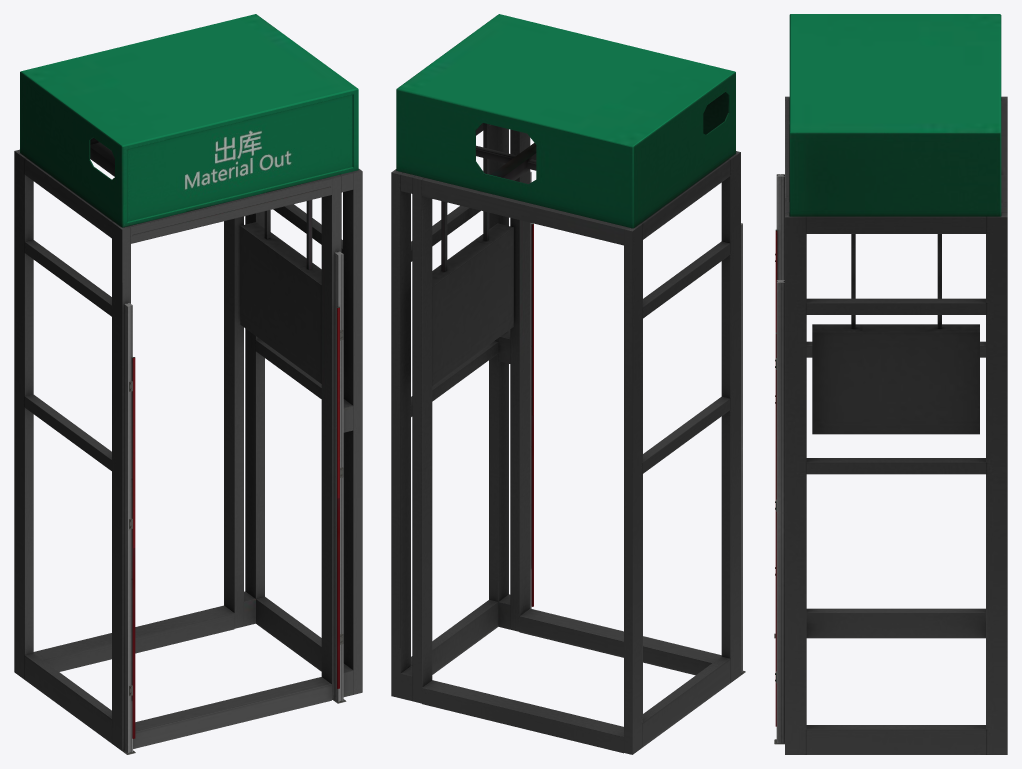
File: SND_chuku.glb
The picture shows the model from 3 angles, left to right: view 1: azimuth 30°, elevation 25°; view 2: azimuth 150°, elevation 25°; view 3: azimuth 270°, elevation 25°; orthographic projection. The views are drawn at different scales.
Bounding box in the file's own units: 14.05 × 33.72 × 11.44.
1 material, 1 textured.
